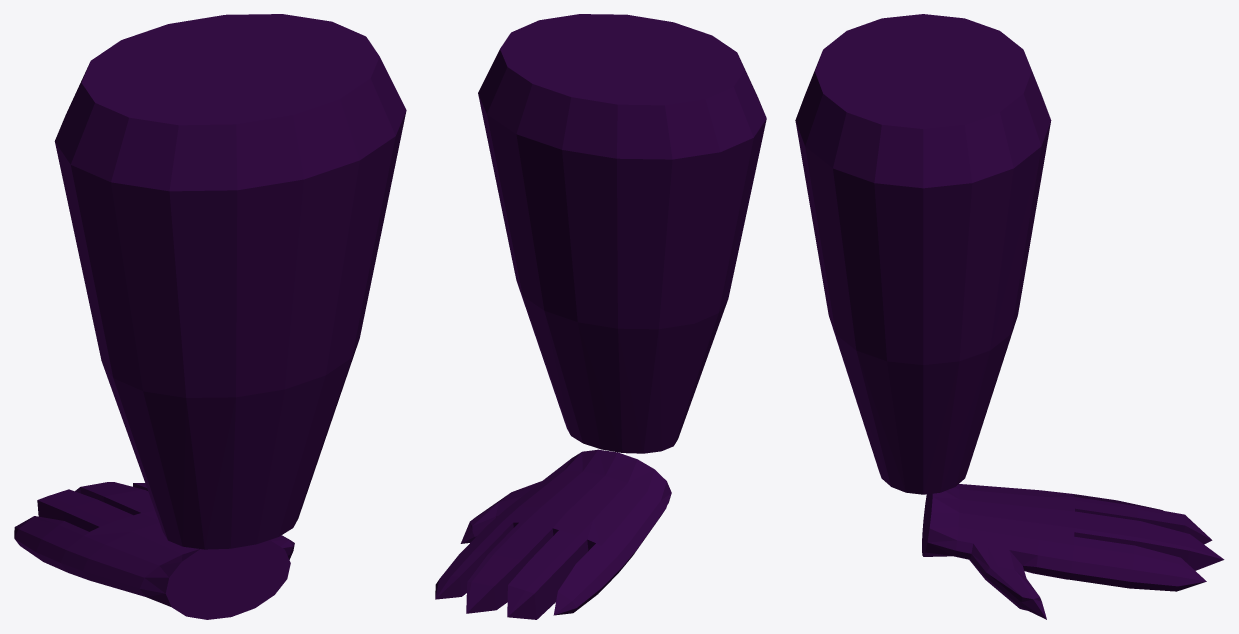
Rendered from Boss_ArmL_Pa.obj.
3 renders of one model, left to right at view 1: azimuth 30°, elevation 25°; view 2: azimuth 150°, elevation 25°; view 3: azimuth 270°, elevation 25°, orthographic. The views are drawn at different scales.
Visible parts, largest first — view 1: 円柱.007; view 2: 円柱.007; view 3: 円柱.007.
Part boxes in pixels (box(x1,y1,x2,y2)): 円柱.007: box(14, 14, 406, 619); 円柱.007: box(435, 14, 766, 619); 円柱.007: box(795, 14, 1224, 619).
Size of the model in its own units: 0.567 by 0.963 by 0.7569.
Materials: 1 (1 with a texture image).
